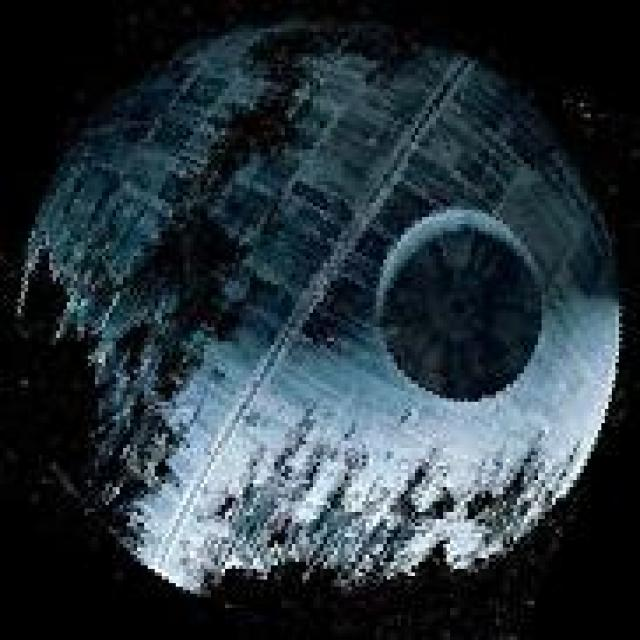Death Star: (7, 3, 637, 604)
